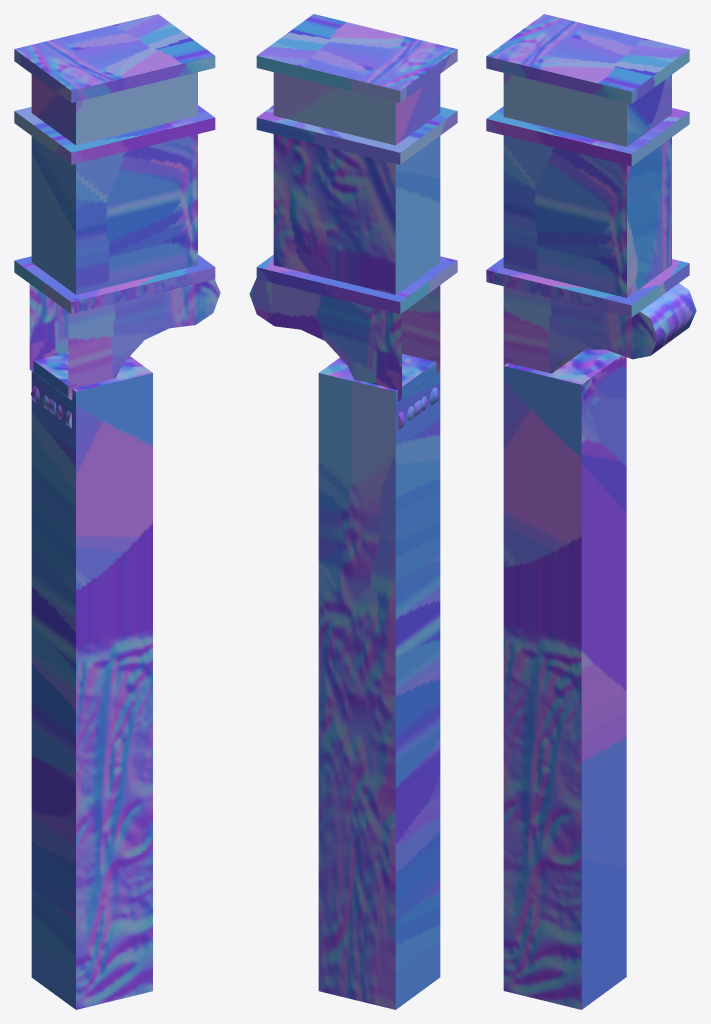
3 renders of one model, left to right at view 1: azimuth 30°, elevation 25°; view 2: azimuth 150°, elevation 25°; view 3: azimuth 330°, elevation 25°, orthographic.
Visible parts, largest first — view 1: DDDDDDDDD09; view 2: DDDDDDDDD09; view 3: DDDDDDDDD09.
Boxes of the visible parts, x1,y1,x2,y2 form: DDDDDDDDD09: (14, 14, 220, 1009); DDDDDDDDD09: (249, 14, 457, 1009); DDDDDDDDD09: (486, 14, 696, 1009).
Size of the model in its own units: 129 by 716 by 80.04.
